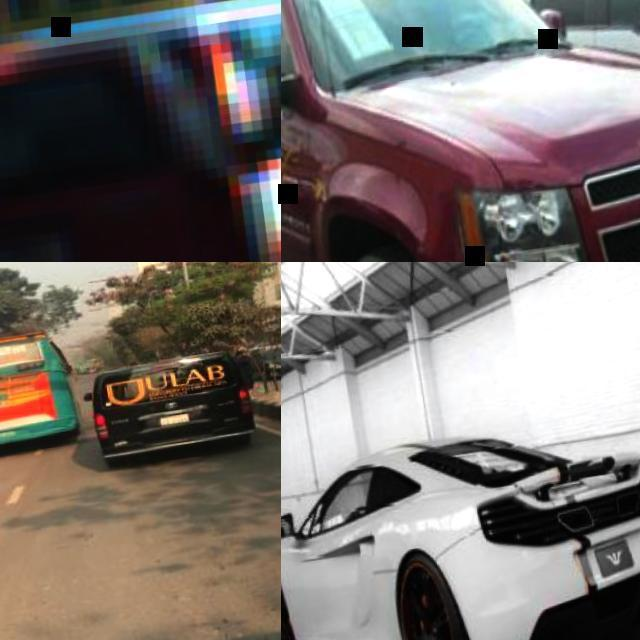car: (286, 0, 639, 263), (0, 0, 279, 186), (91, 353, 261, 464)
